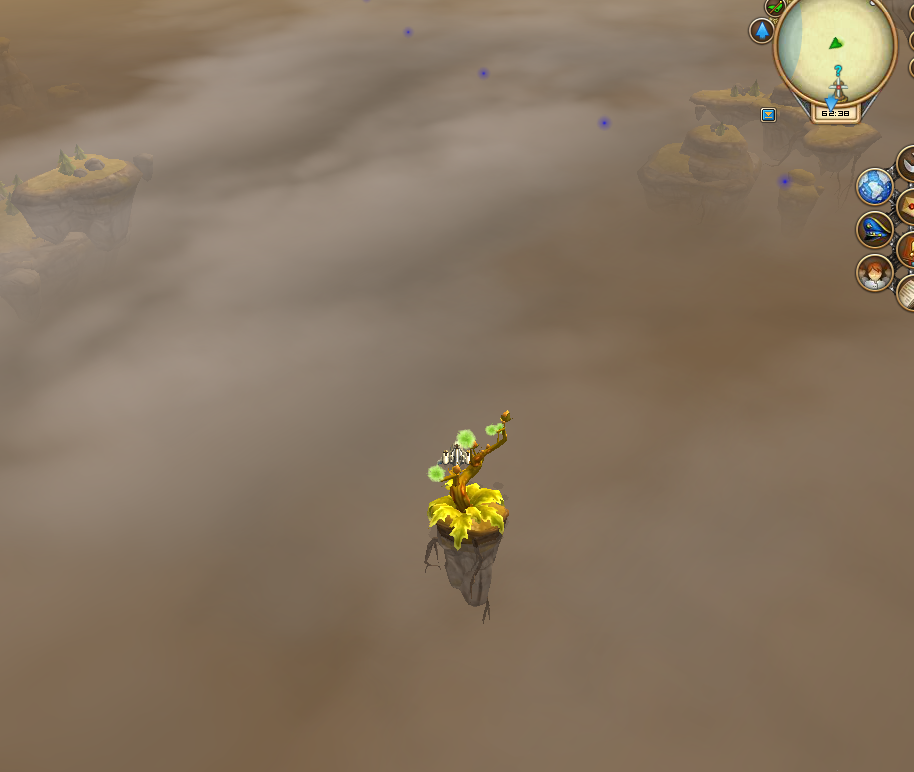dandelion-full: (422, 406, 519, 577)
